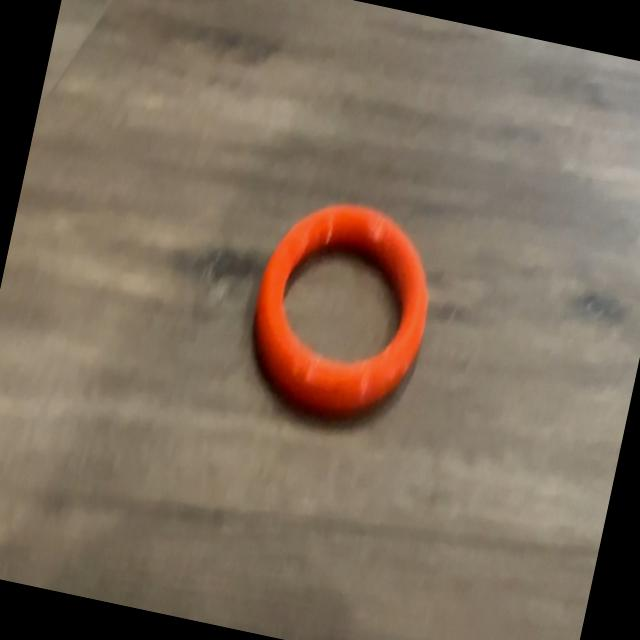note: (234, 184, 448, 430)
